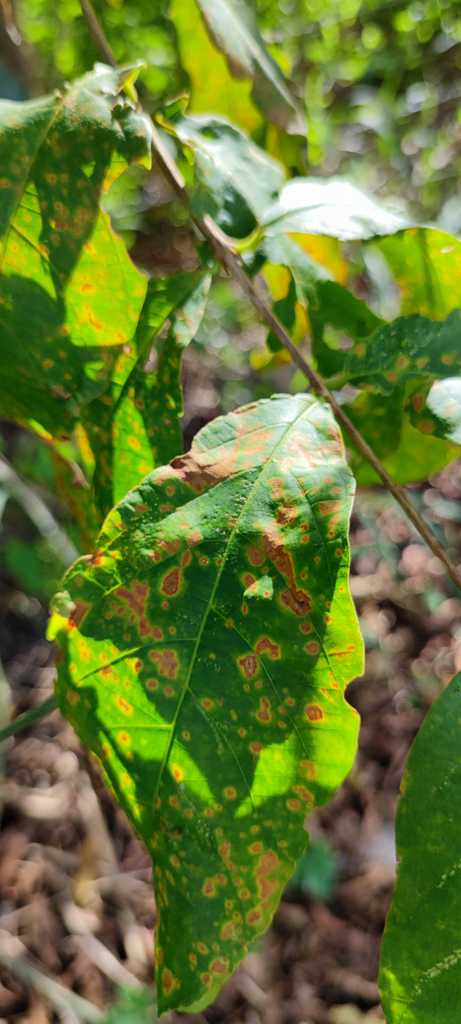frog-eye leafspot: (39, 385, 360, 1015), (10, 87, 135, 429), (78, 268, 198, 535), (347, 326, 458, 473)
